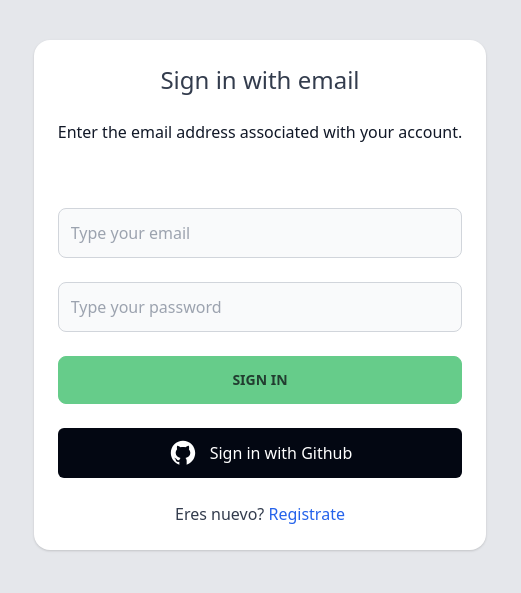
Scenario: Test de LoginView › Probando validacion de los inputs
Click the button "Sign in".
click(261, 380)  # box [58,356,463,404]
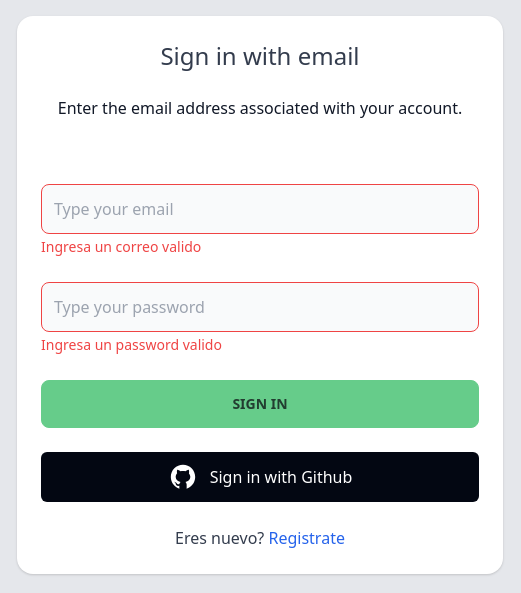
Expected: the text "Ingresa un correo valido" is shown, [41,237,201,256]
Expected: the text "Ingresa un password valido" is shown, [41,335,222,354]
